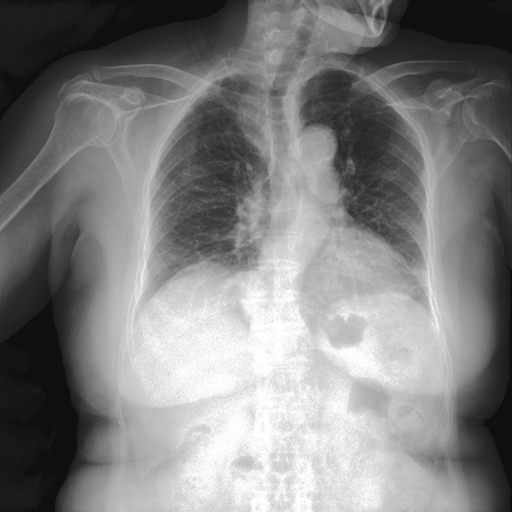Cardiomegaly: (358, 250, 439, 310)
Consolidation: (255, 167, 354, 212), (293, 121, 348, 190)
Infiltration: (167, 259, 255, 287)
Lung Opacity: (310, 126, 341, 167)
Nodule/Mass: (231, 197, 436, 312)
Pleural thickening: (237, 72, 274, 155)
Pneumothorax: (385, 261, 434, 296)
